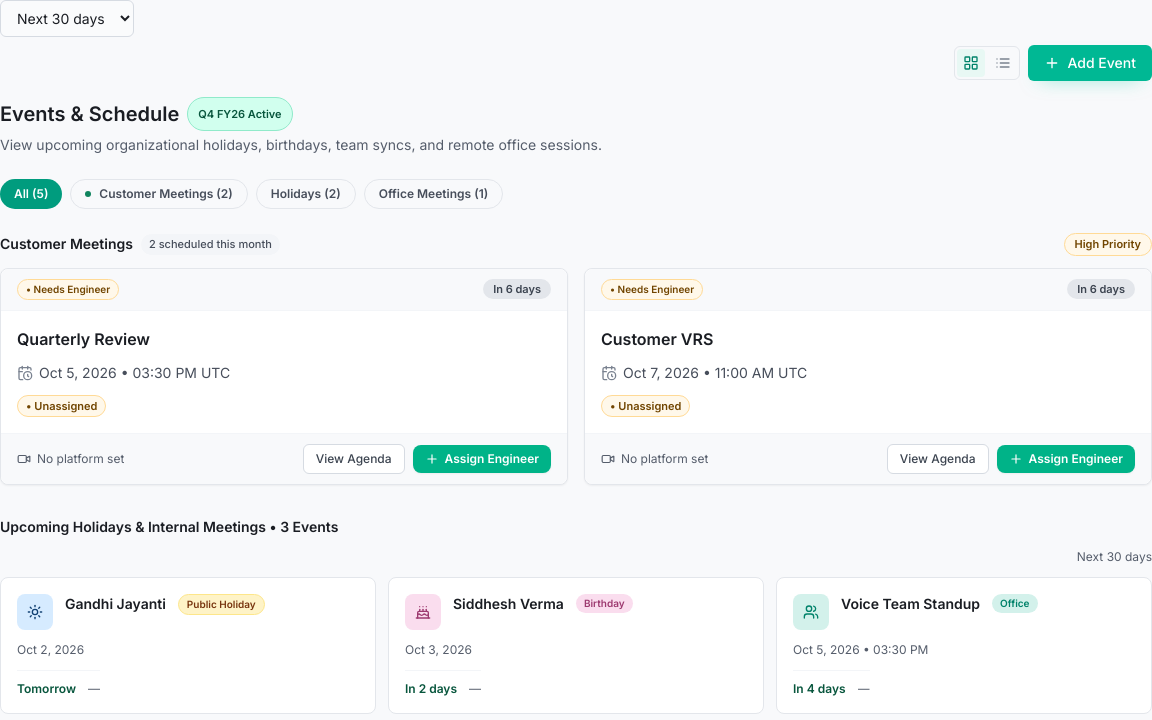
Test case: EventsPage add event modal › shows the zone badge for the reader rather than a hardcoded PST
Click the button "Add Event": (1090, 63) [1028,45,1151,81]
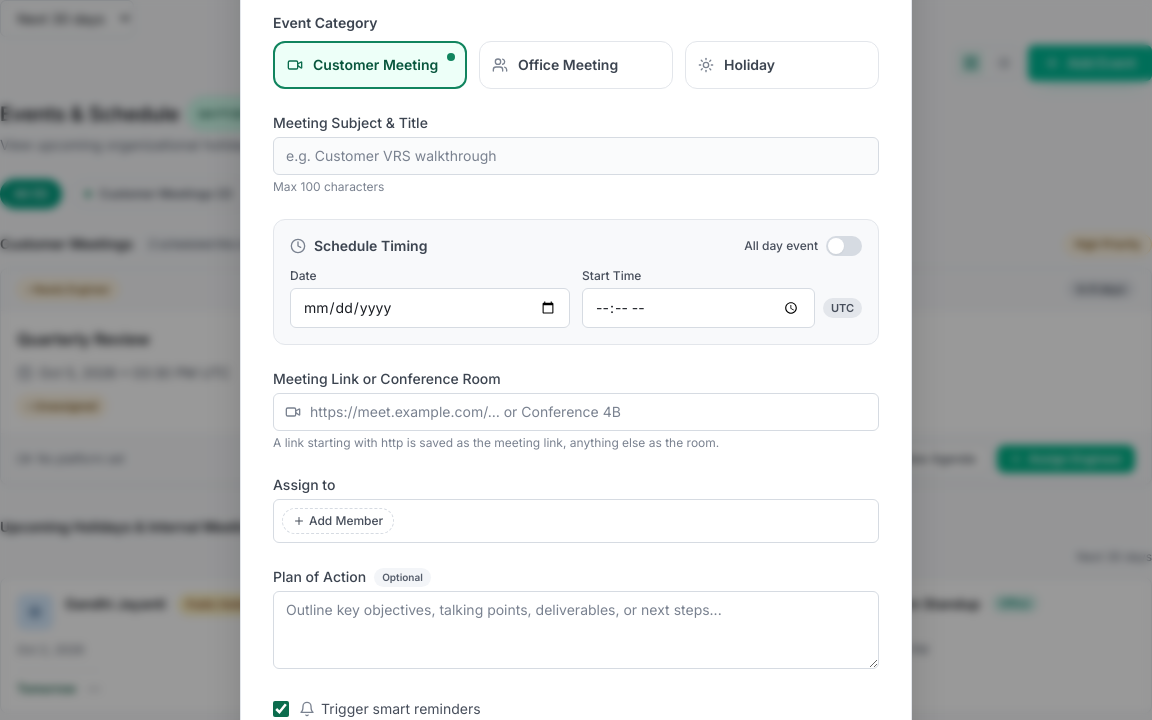
Check: the text "UTC" is shown, box [823,298,862,318]
